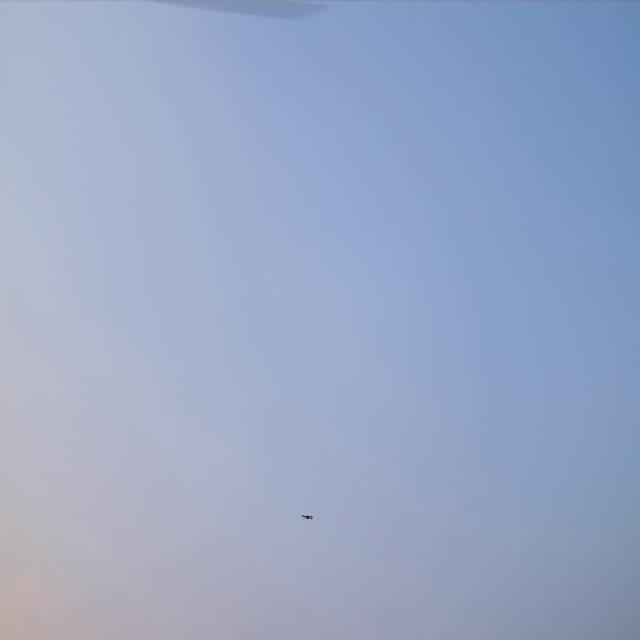UAV: (300, 512, 313, 520)
